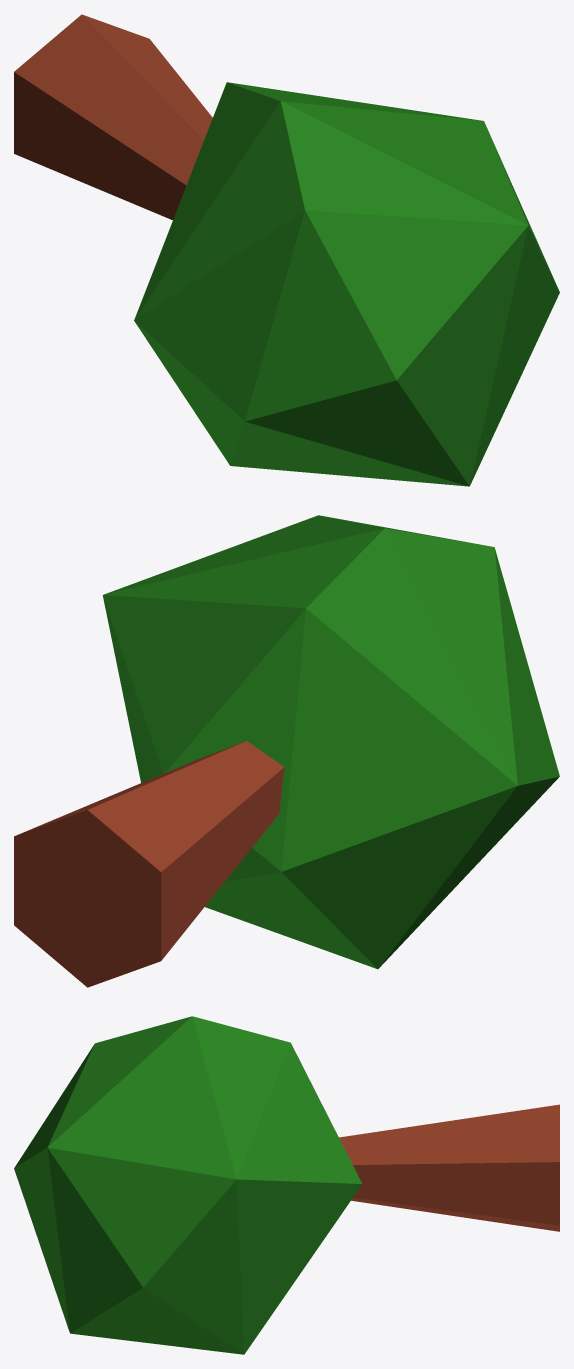
The picture shows the model from 3 angles, top to bottom: view 1: azimuth 30°, elevation 25°; view 2: azimuth 150°, elevation 25°; view 3: azimuth 270°, elevation 25°; orthographic projection. The views are drawn at different scales.
Parts seen in each view (by area): view 1: Cylinder_1, Cylinder_0; view 2: Cylinder_1, Cylinder_0; view 3: Cylinder_1, Cylinder_0.
Part boxes in pixels (<box>): Cylinder_1: <box>134,82,559,486</box>; Cylinder_0: <box>14,14,212,220</box>; Cylinder_1: <box>102,515,559,969</box>; Cylinder_0: <box>14,741,284,987</box>; Cylinder_1: <box>14,1016,362,1354</box>; Cylinder_0: <box>339,1104,559,1231</box>.
Size of the model in its own units: 2.22 by 2.11 by 3.53.
